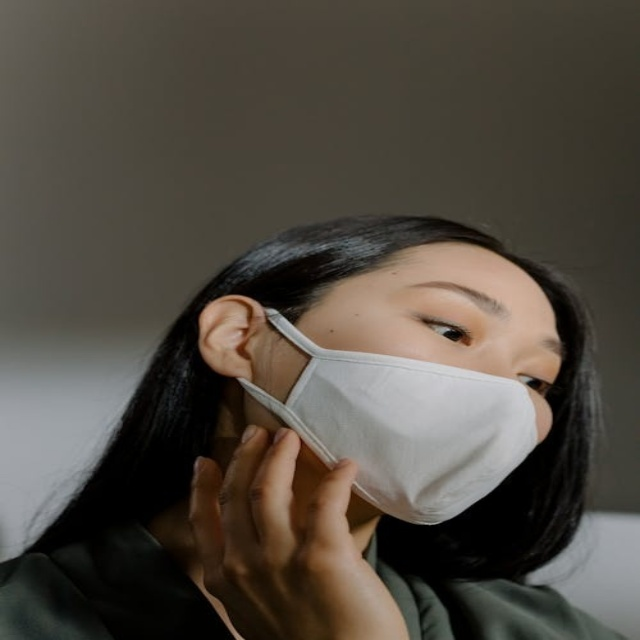Mascara: (230, 306, 541, 524)
Sin_gafas: (374, 275, 570, 399)
Sin_guantes: (180, 421, 396, 639)
